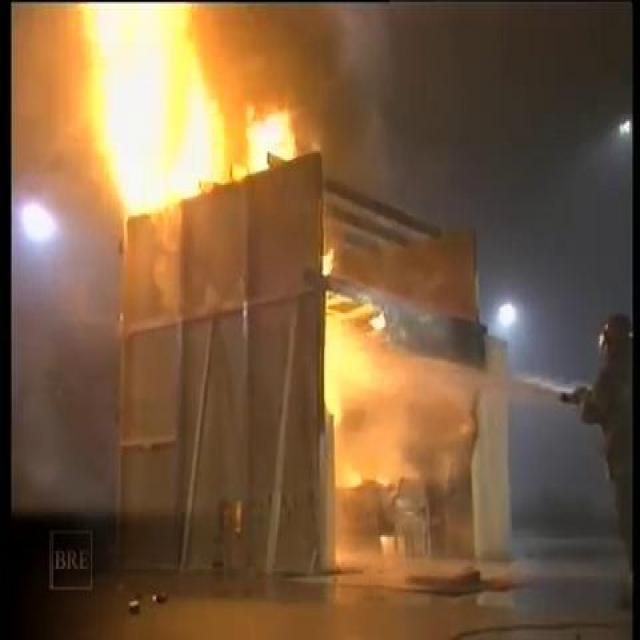fire: (87, 7, 286, 230), (322, 310, 392, 437)
